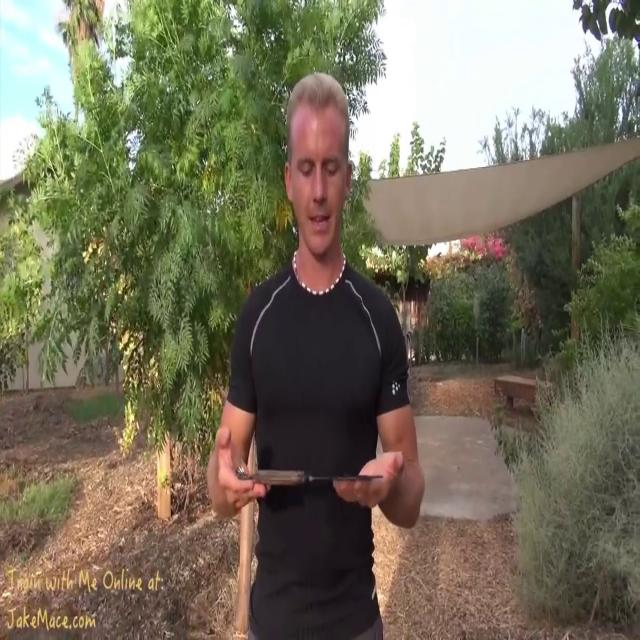knife: (233, 466, 392, 506)
